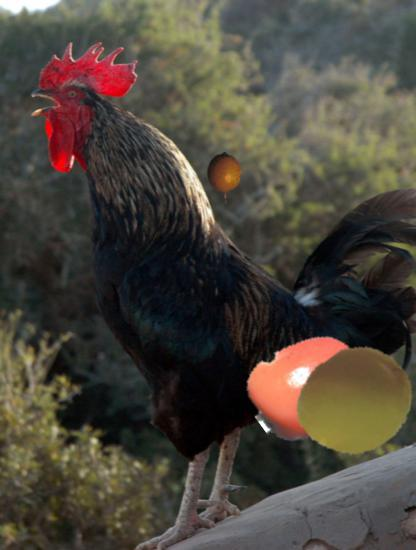Granadilla: (198, 152, 250, 204)
Kaki: (246, 325, 366, 445)
Peach: (295, 342, 415, 462)
